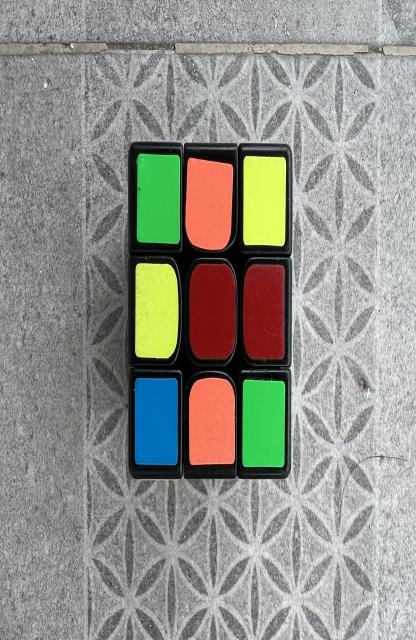Blue: (135, 378, 178, 465)
Green: (136, 153, 180, 243), (242, 380, 285, 467)
Orange: (185, 158, 233, 250), (189, 377, 235, 465)
Red: (189, 263, 236, 360), (243, 263, 285, 360)
Yellow: (135, 263, 179, 358), (243, 155, 286, 247)
